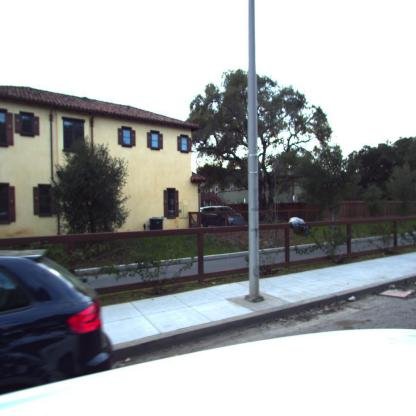car: (0, 239, 121, 379), (198, 206, 244, 228)
